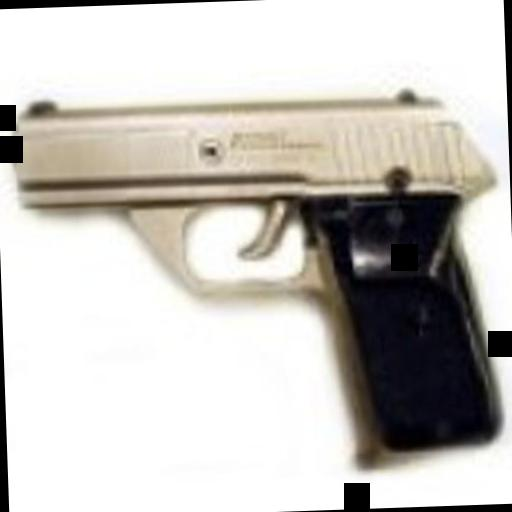Handgun: (10, 80, 502, 480)
